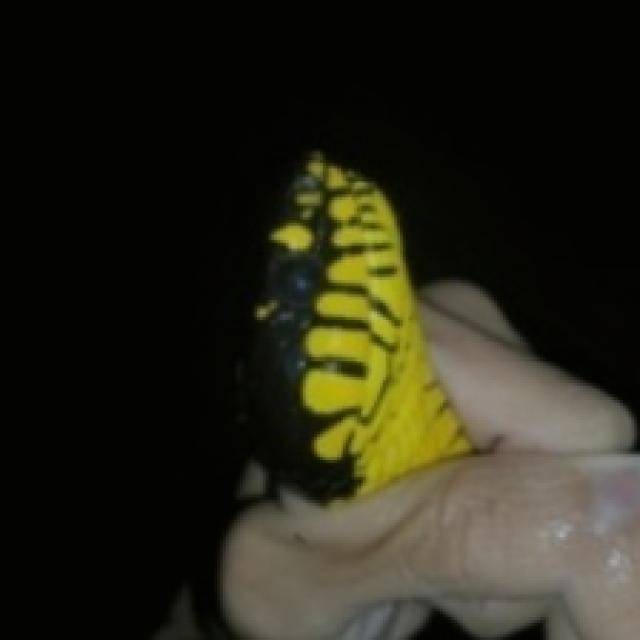mangrove cat snake: (249, 154, 469, 497)
